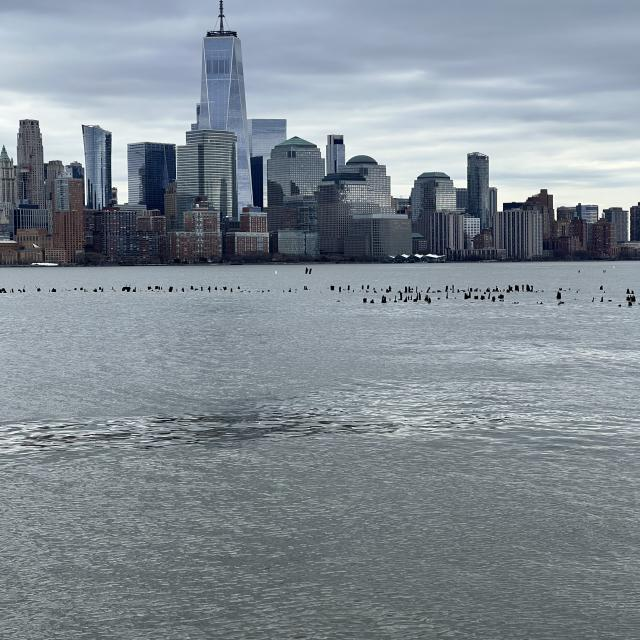WTC: (200, 3, 243, 129)
